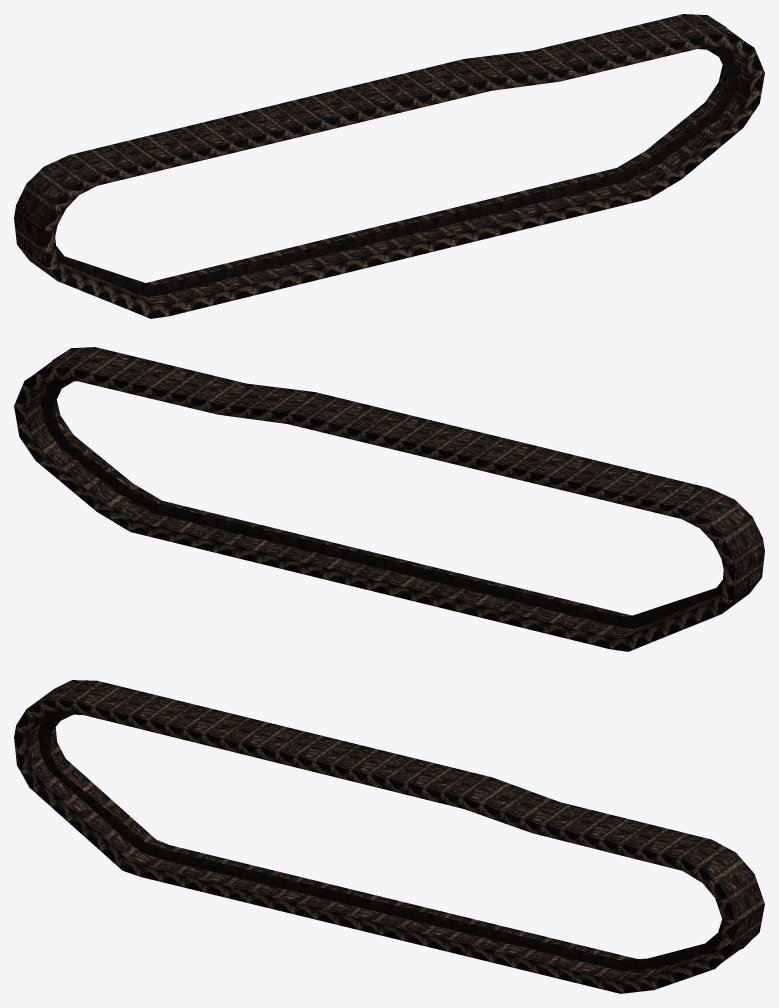
Rendered from track.obj.
3 renders of one model, top to bottom at view 1: azimuth 30°, elevation 25°; view 2: azimuth 150°, elevation 25°; view 3: azimuth 330°, elevation 25°, orthographic.
Parts seen in each view (by area): view 1: Chain_Chain.002; view 2: Chain_Chain.002; view 3: Chain_Chain.002.
Boxes of the visible parts, x1,y1,x2,y2 form: Chain_Chain.002: (14,14,764,318); Chain_Chain.002: (14,347,764,651); Chain_Chain.002: (14,680,764,993).
Bounding box in the file's own units: 11.96 × 2.5 × 0.8113.
1 material, 1 textured.
